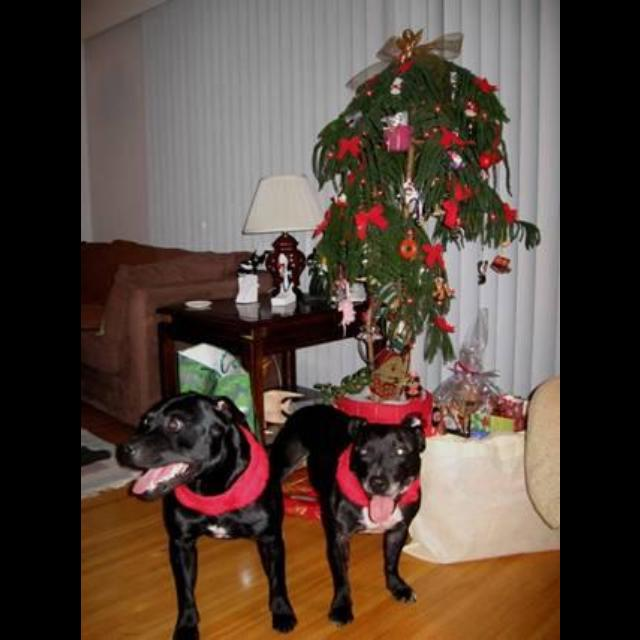staffford: (114, 389, 298, 639), (267, 401, 427, 627)
